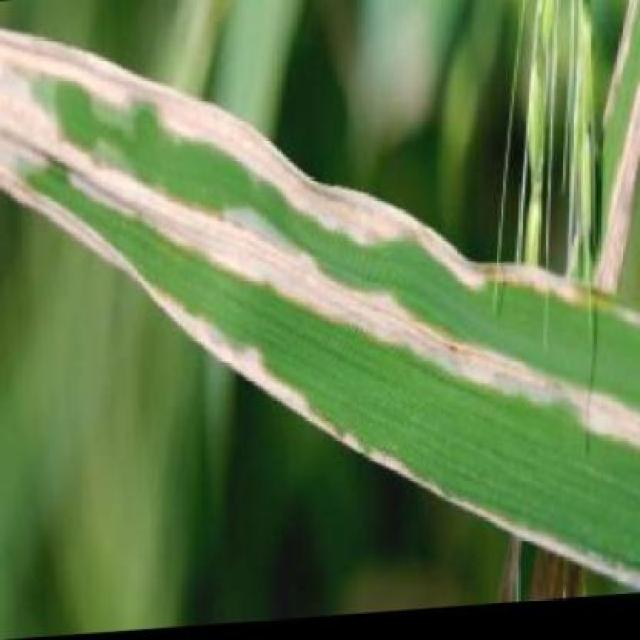Brown_Spot: (0, 29, 494, 356), (138, 216, 638, 521)
